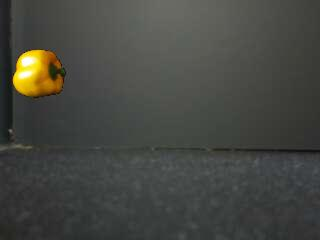Capsicum: (12, 49, 67, 98)
